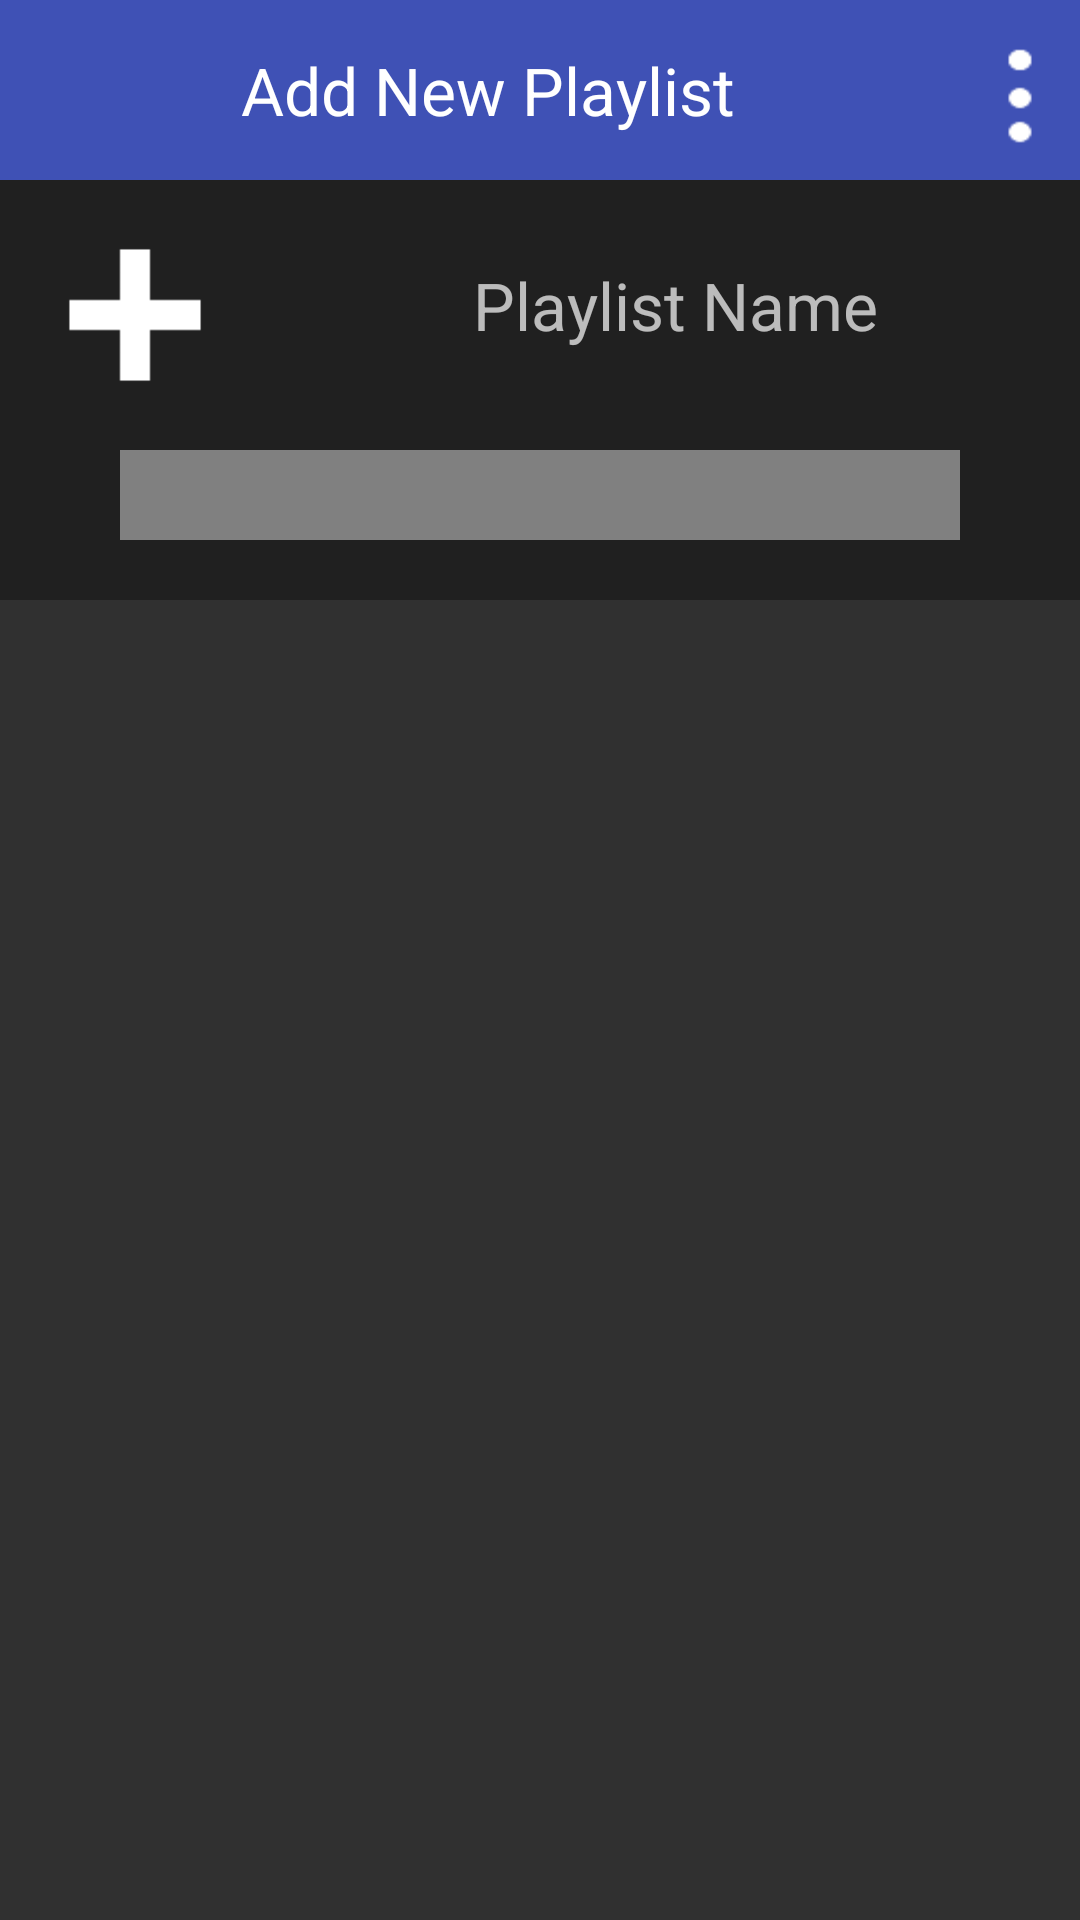

Where icons sit on this 1080px×1920px app screen, as (x1, y1, x2, y2):
add 80p: (69, 249, 201, 381)
